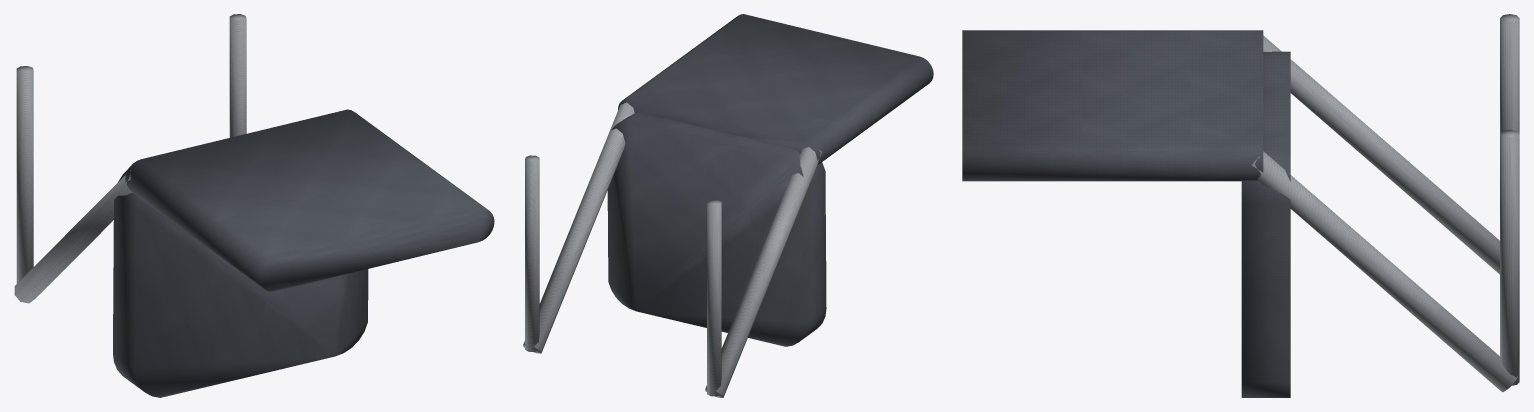
File: CHAIR_GUEST_ARM_001.glb
3 renders of one model, left to right at view 1: azimuth 30°, elevation 25°; view 2: azimuth 150°, elevation 25°; view 3: azimuth 270°, elevation 25°, orthographic. The views are drawn at different scales.
Visible parts, largest first — view 1: back_001, seat_000, floor_sled_003, sled_leg_002, floor_sled_005; view 2: seat_000, back_001, sled_leg_002, sled_leg_004, floor_sled_003, floor_sled_005; view 3: back_001, seat_000, sled_leg_004, sled_leg_002, floor_sled_005, floor_sled_003.
Part boxes in pixels (bbox=[...]): back_001: bbox=[125, 109, 494, 291]; seat_000: bbox=[113, 168, 368, 397]; floor_sled_003: bbox=[16, 66, 33, 283]; sled_leg_002: bbox=[14, 170, 132, 303]; floor_sled_005: bbox=[229, 14, 246, 137]; seat_000: bbox=[607, 112, 826, 346]; back_001: bbox=[618, 14, 933, 164]; sled_leg_002: bbox=[705, 147, 821, 397]; sled_leg_004: bbox=[523, 102, 634, 353]; floor_sled_003: bbox=[707, 200, 721, 396]; floor_sled_005: bbox=[525, 155, 539, 351]; back_001: bbox=[962, 30, 1263, 181]; seat_000: bbox=[1241, 51, 1290, 397]; sled_leg_004: bbox=[1251, 151, 1517, 391]; sled_leg_002: bbox=[1263, 35, 1499, 274]; floor_sled_005: bbox=[1500, 129, 1519, 385]; floor_sled_003: bbox=[1500, 14, 1519, 133].
Bounding box in the file's own units: 0.55 × 0.55 × 1.02.
2 materials, 2 textured.
